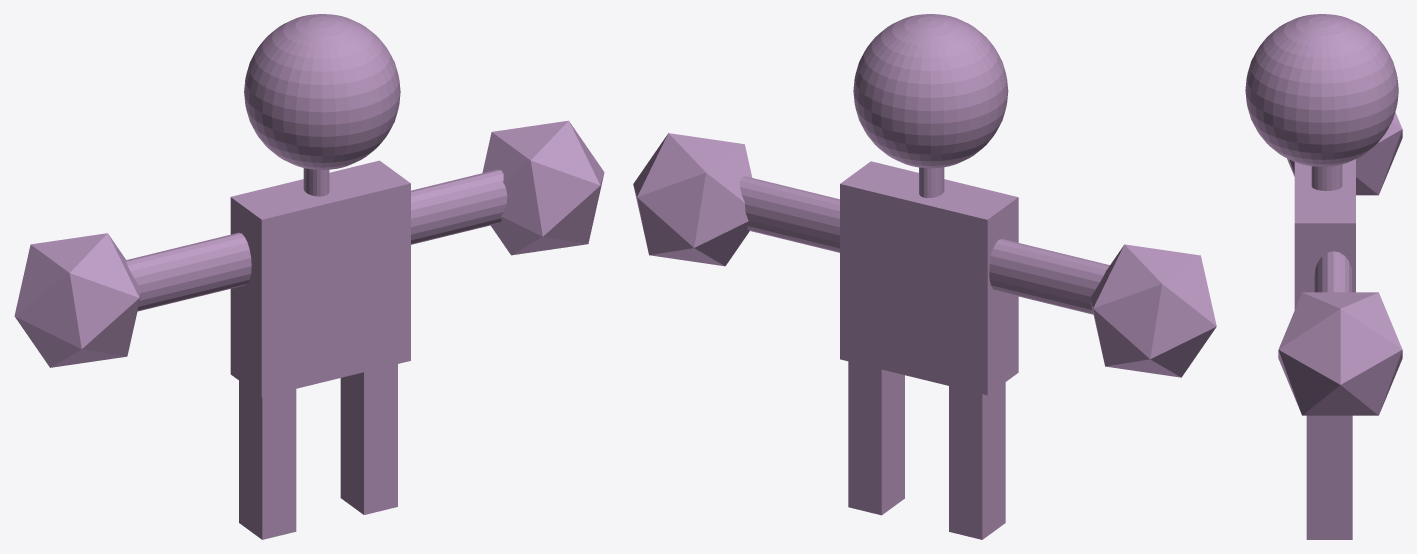
The model's file is Bodacious Allis.glb.
3 views of the same model, side by side, from view 1: azimuth 30°, elevation 25°; view 2: azimuth 150°, elevation 25°; view 3: azimuth 270°, elevation 25° (orthographic). The views are drawn at different scales.
Parts seen in each view (by area): view 1: Mesh_Mesh_head_geo.001_lambert2SG.001; view 2: Mesh_Mesh_head_geo.001_lambert2SG.001; view 3: Mesh_Mesh_head_geo.001_lambert2SG.001.
Part boxes in pixels (left/top/right/bottom): Mesh_Mesh_head_geo.001_lambert2SG.001: left=14, top=14, right=604, bottom=539; Mesh_Mesh_head_geo.001_lambert2SG.001: left=633, top=14, right=1216, bottom=539; Mesh_Mesh_head_geo.001_lambert2SG.001: left=1245, top=14, right=1402, bottom=539.
Bounding box in the file's own units: 87.02 × 70 × 20.49.
